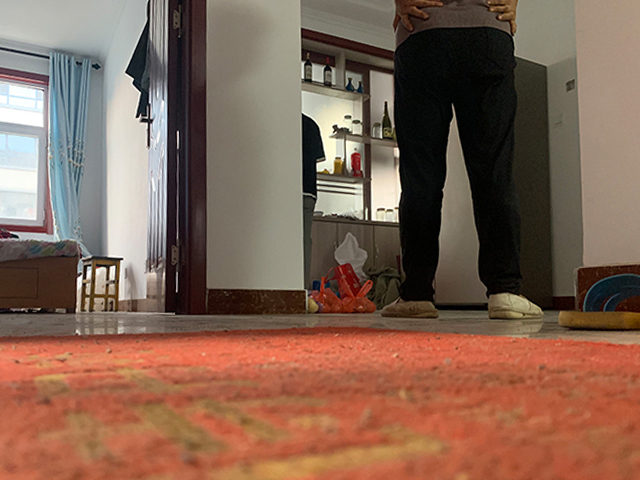bed: (1, 235, 79, 314)
carpet: (1, 325, 640, 480)
slippers: (558, 273, 639, 331)
stool: (80, 254, 123, 314)
